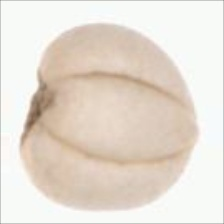L5: (47, 72, 196, 166), (18, 67, 57, 151)
L6: (16, 21, 202, 213)
